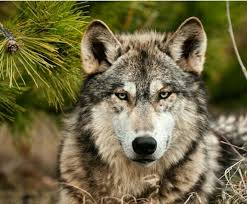Lobo: (64, 20, 237, 201)
